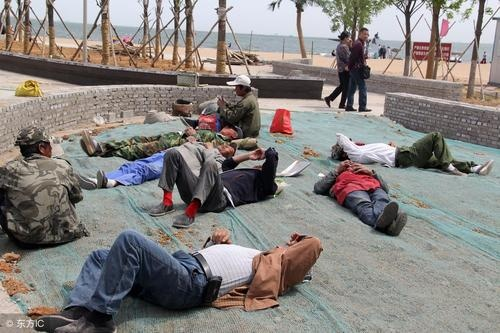falling: (69, 131, 226, 198)
